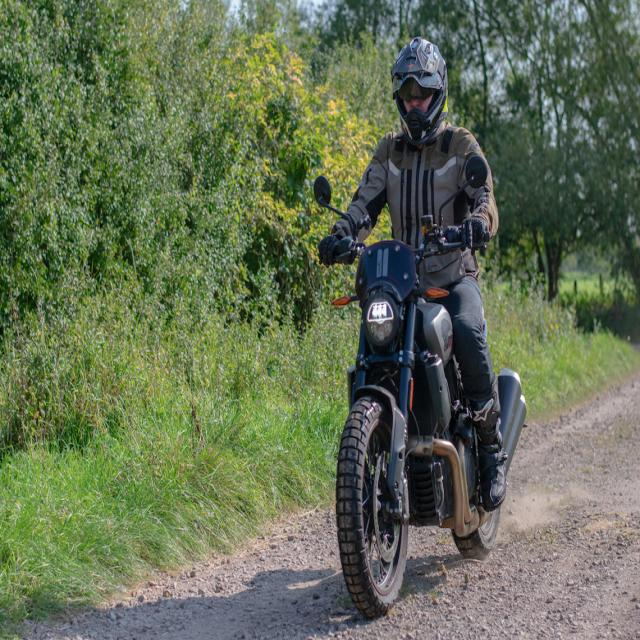motorcycle: (320, 38, 526, 616)
